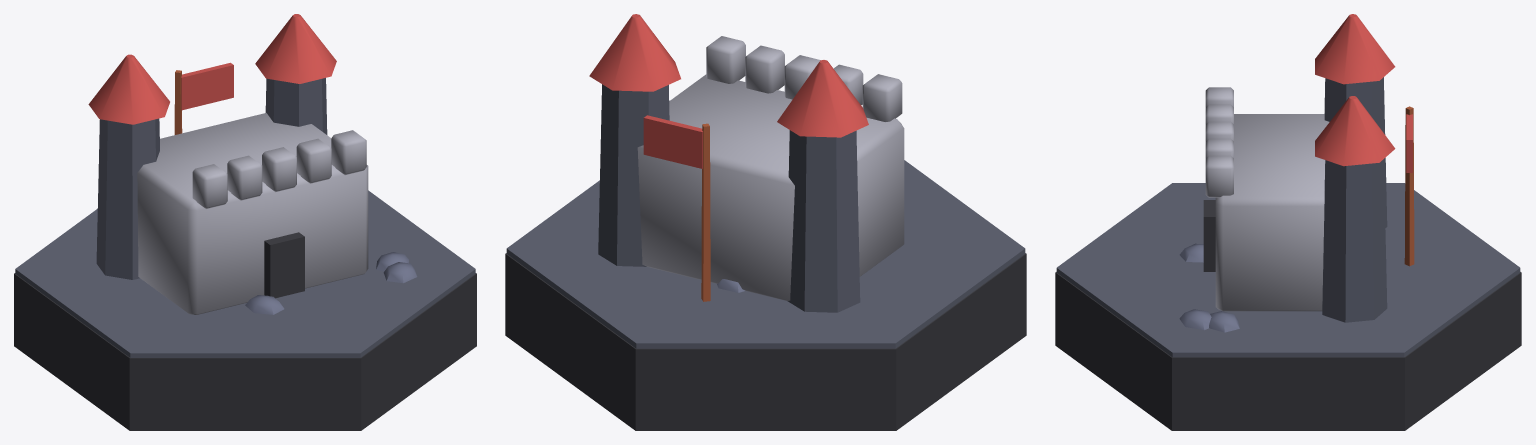
File: building-castle.glb
The picture shows the model from 3 angles, left to right: view 1: azimuth 30°, elevation 25°; view 2: azimuth 150°, elevation 25°; view 3: azimuth 270°, elevation 25°; orthographic projection. The views are drawn at different scales.
Visible parts, largest first — view 1: building_castle; view 2: building_castle; view 3: building_castle.
Boxes of the visible parts, bbox=[...] form: building_castle: bbox=[14, 14, 476, 430]; building_castle: bbox=[505, 14, 1026, 430]; building_castle: bbox=[1055, 14, 1521, 430].
Bounding box in the file's own units: 1 × 0.79 × 1.15.
1 material, 1 textured.
